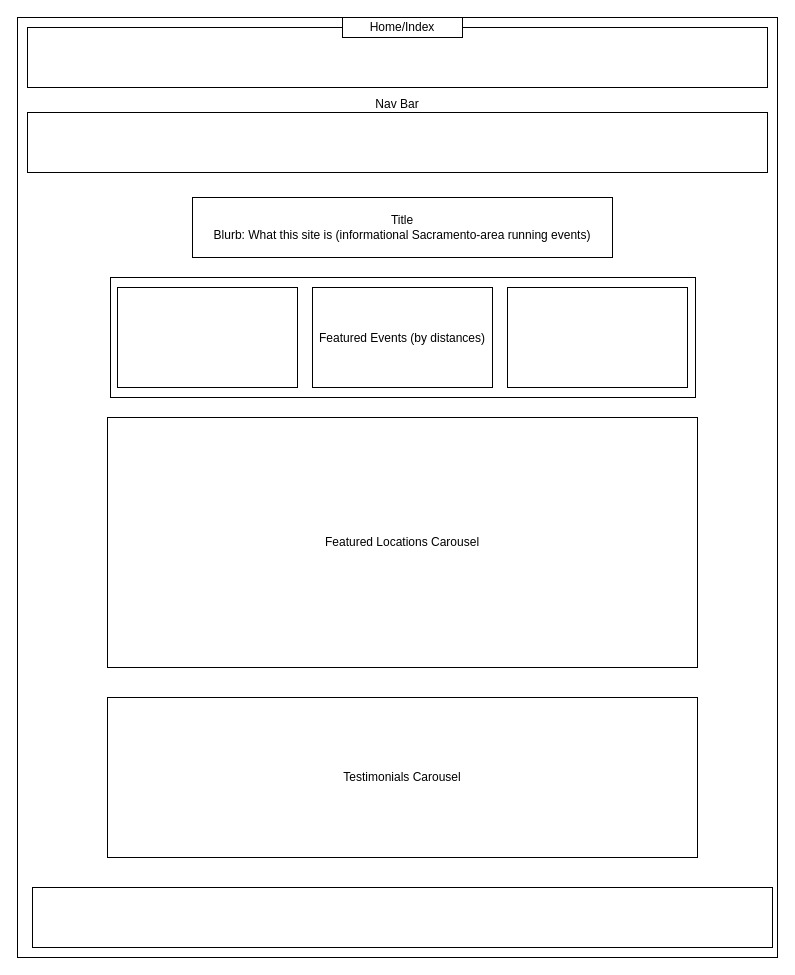
Some shapes in this 795 by 975 pixel diagram are drawn without their labels. The shapes that lost their labels are listed below. From the top down, each one's box as (x1, y1, x2, y2) in pixels, then its label:
(26, 26, 768, 88): Banner
(26, 112, 768, 172): Logo Home Events More Info / Contact
(32, 886, 772, 948): Footer (basic nav)
